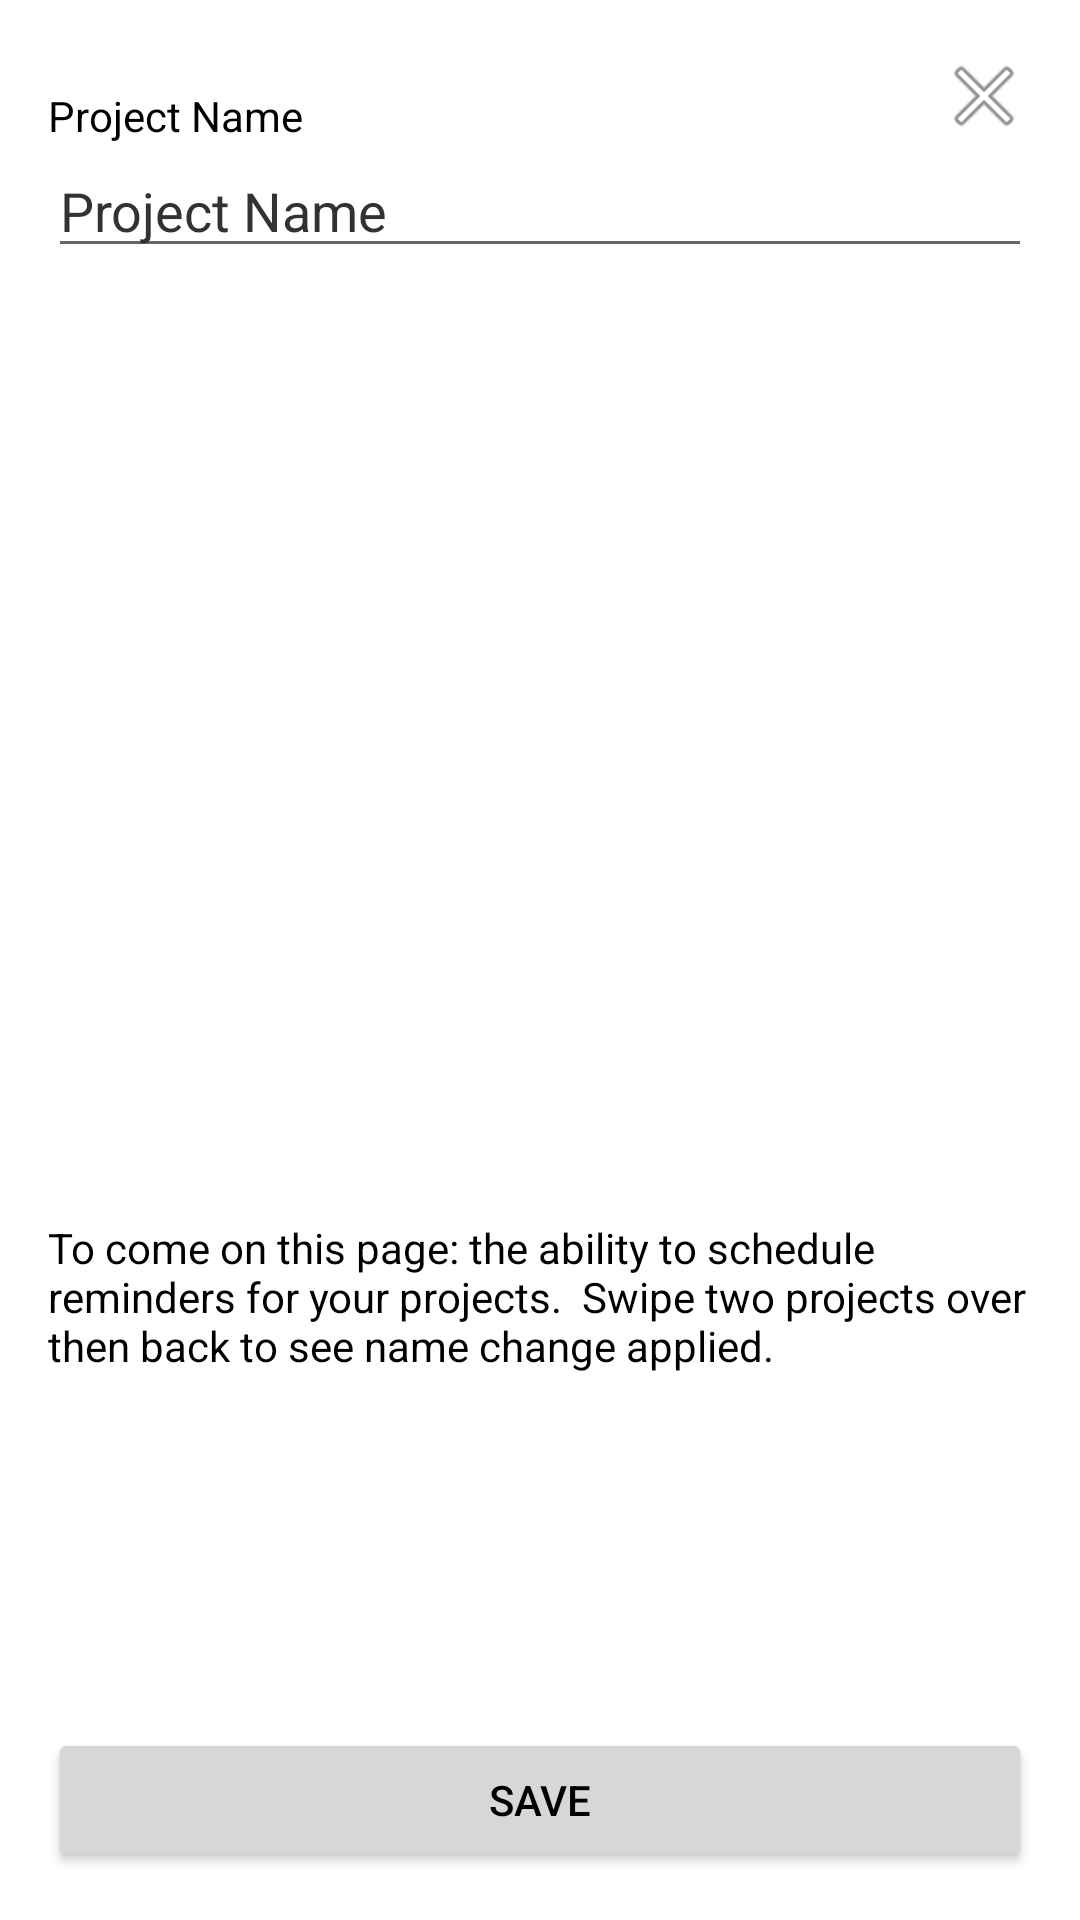

Screen size 1080w x 1920h. Icon name, then its box in pixels as [x1, y1, x2, y2]:
close clear cancel: [954, 66, 1014, 126]
